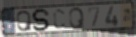4: (104, 5, 120, 28)
7: (87, 6, 101, 28)
C: (53, 9, 66, 30)
Q: (69, 6, 85, 30), (17, 9, 33, 33)
S: (31, 8, 51, 32)
